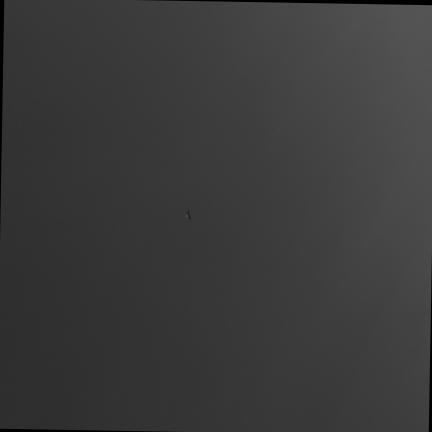Shahed: (185, 207, 191, 219)
